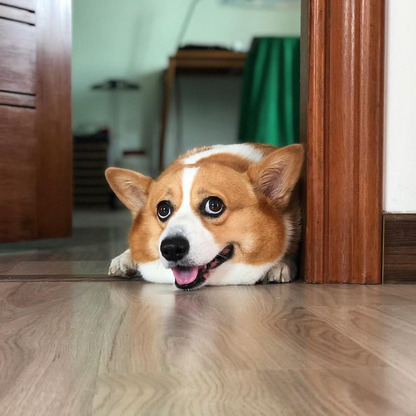Corgi: (83, 118, 328, 319)
